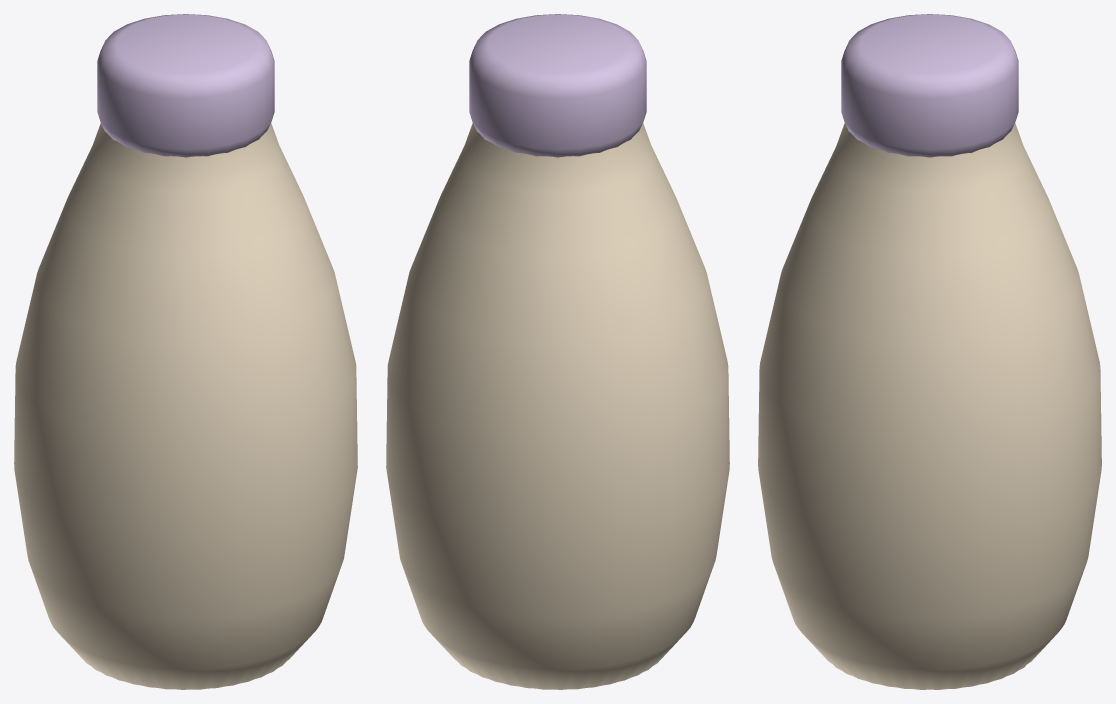
The model's file is vase_c.glb.
The picture shows the model from 3 angles, left to right: view 1: azimuth 30°, elevation 25°; view 2: azimuth 150°, elevation 25°; view 3: azimuth 270°, elevation 25°; orthographic projection.
Visible parts, largest first — view 1: body; view 2: body; view 3: body.
Part boxes in pixels (<box>): body: <box>14,14,357,689</box>; body: <box>386,14,729,689</box>; body: <box>758,14,1101,689</box>.
Size of the model in its own units: 0.1473 by 0.29 by 0.1473.
